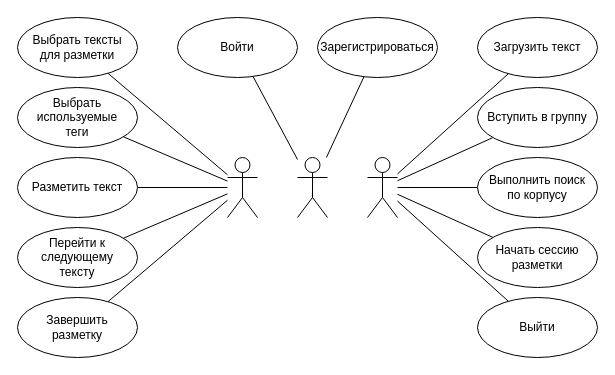
Some shapes in this 615 by 375 pixel diagram are drawn without their labels. The box of each missing label's shape, as (x1, y1, x2, y2) in pixels:
Авторизованный пользователь: (366, 156, 398, 218)
Гость: (296, 156, 328, 218)
Разметчик в сессии: (226, 156, 258, 218)
